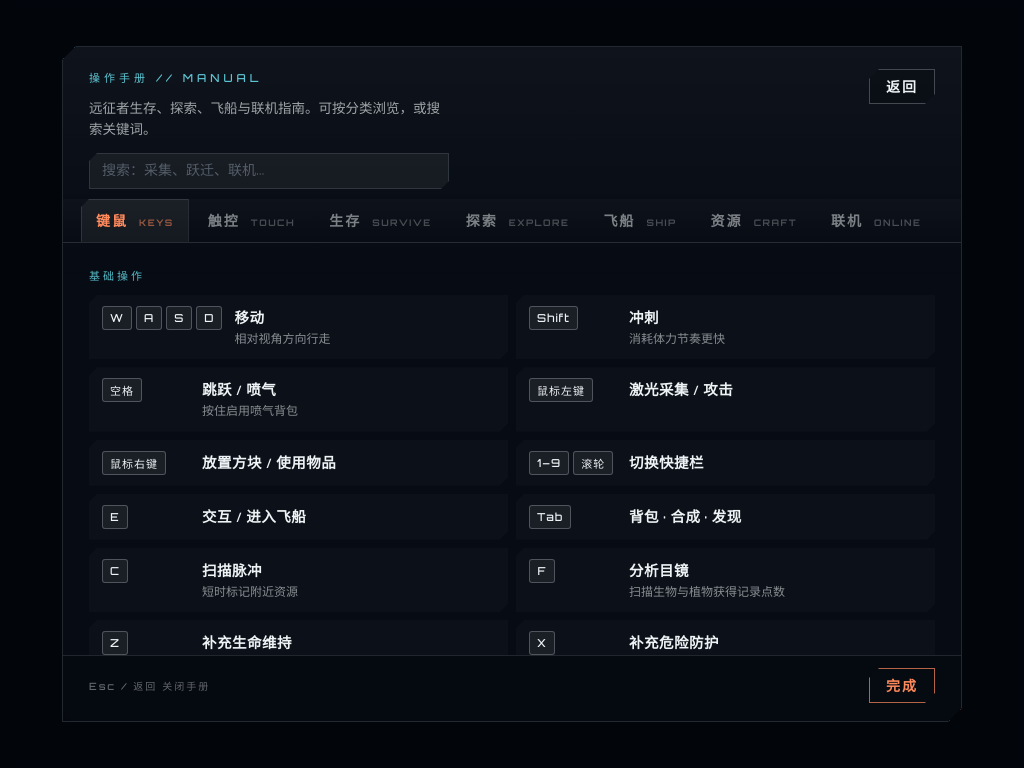
Test case: HelpScreen › has category tabs and survival content
Click the tab with class "opts-tab" showing "生存 SURVIVE" at (380, 220), box [314, 199, 447, 242]
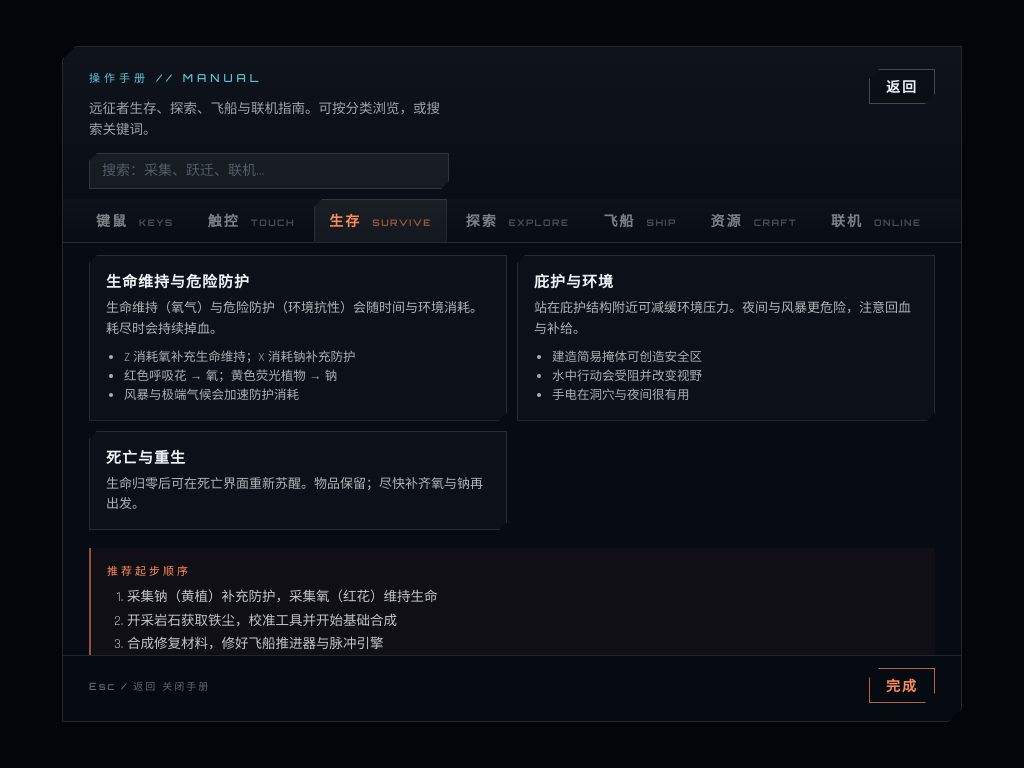
Expected: the text "生命维持" is shown, [106, 273, 250, 292]
Now the text "推荐起步顺序" is shown, box [107, 564, 191, 578]
